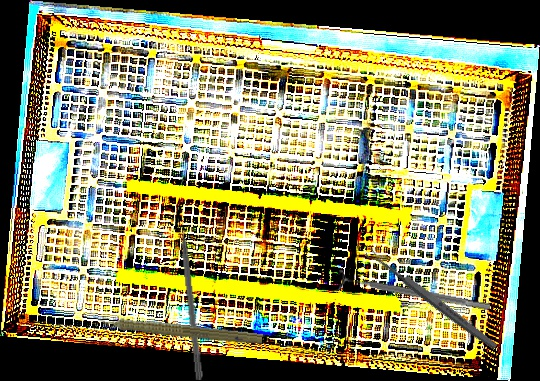Fixation Ring: (335, 267, 492, 320)
Handpiece: (88, 308, 264, 348)
Pusher: (177, 210, 205, 381)
Surgical Spoon: (364, 246, 499, 352)
